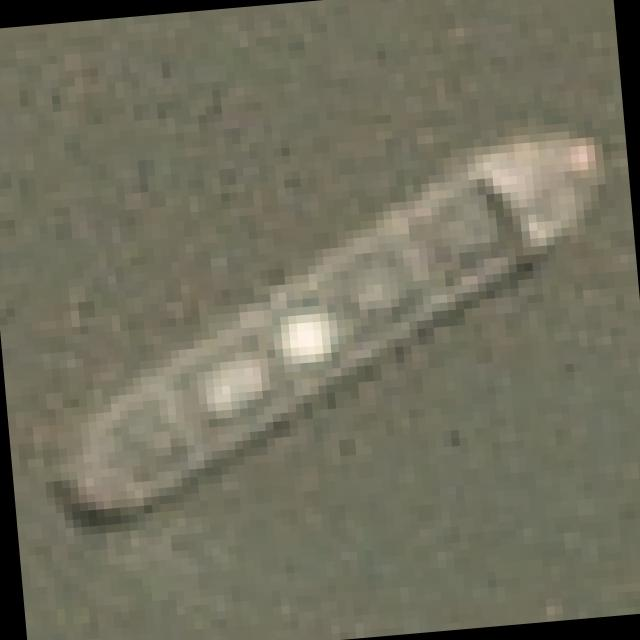ship: (6, 90, 640, 557)
